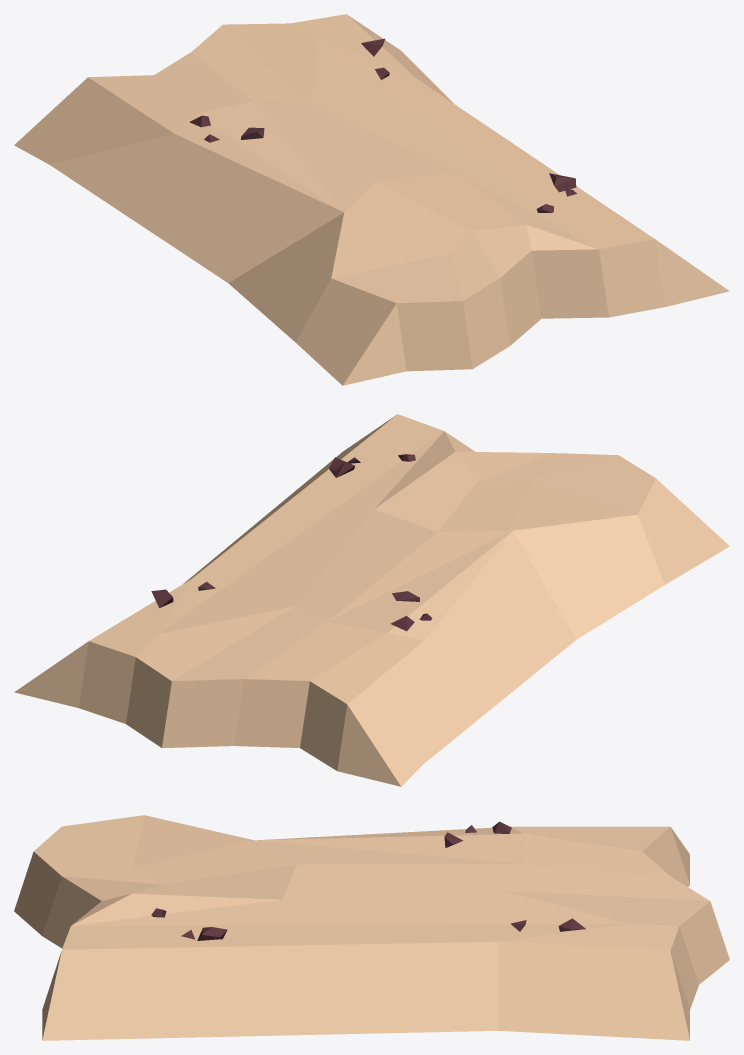
Rendered from SM_Road_Middle_Empire.fbx.
3 views of the same model, one above another, from view 1: azimuth 30°, elevation 25°; view 2: azimuth 150°, elevation 25°; view 3: azimuth 270°, elevation 25° (orthographic).
Visible parts, largest first — view 1: SM_Road_Middle_Empire; view 2: SM_Road_Middle_Empire; view 3: SM_Road_Middle_Empire.
Boxes of the visible parts, bbox=[...] form: SM_Road_Middle_Empire: bbox=[14, 14, 729, 385]; SM_Road_Middle_Empire: bbox=[14, 414, 729, 786]; SM_Road_Middle_Empire: bbox=[14, 815, 729, 1040].
Size of the model in its own units: 4.49 by 0.879 by 7.3.
